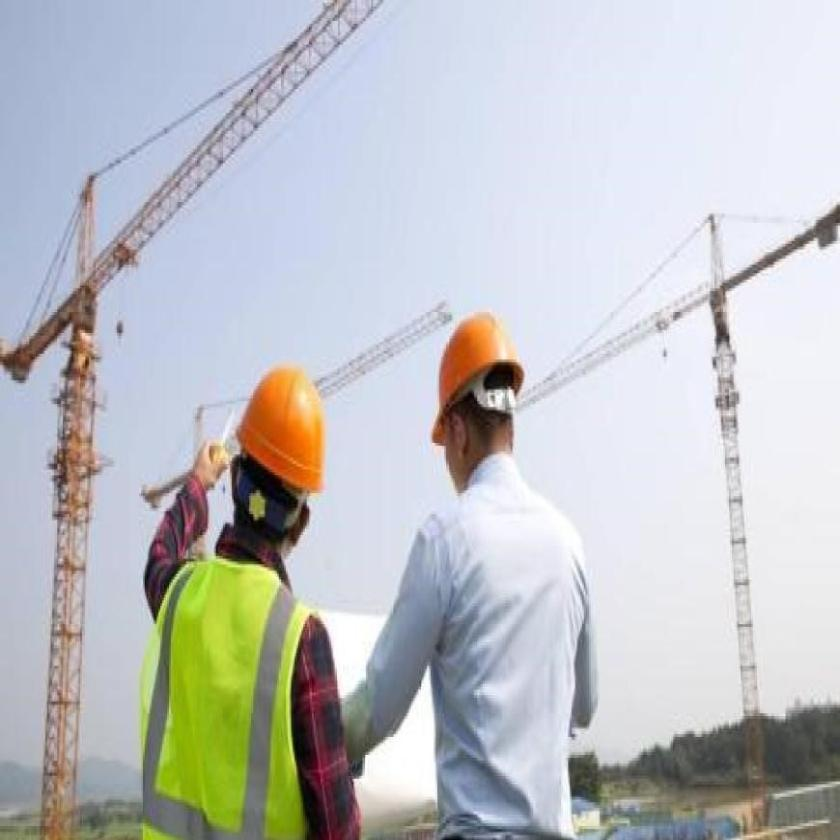Con_casco: (430, 305, 528, 494)
